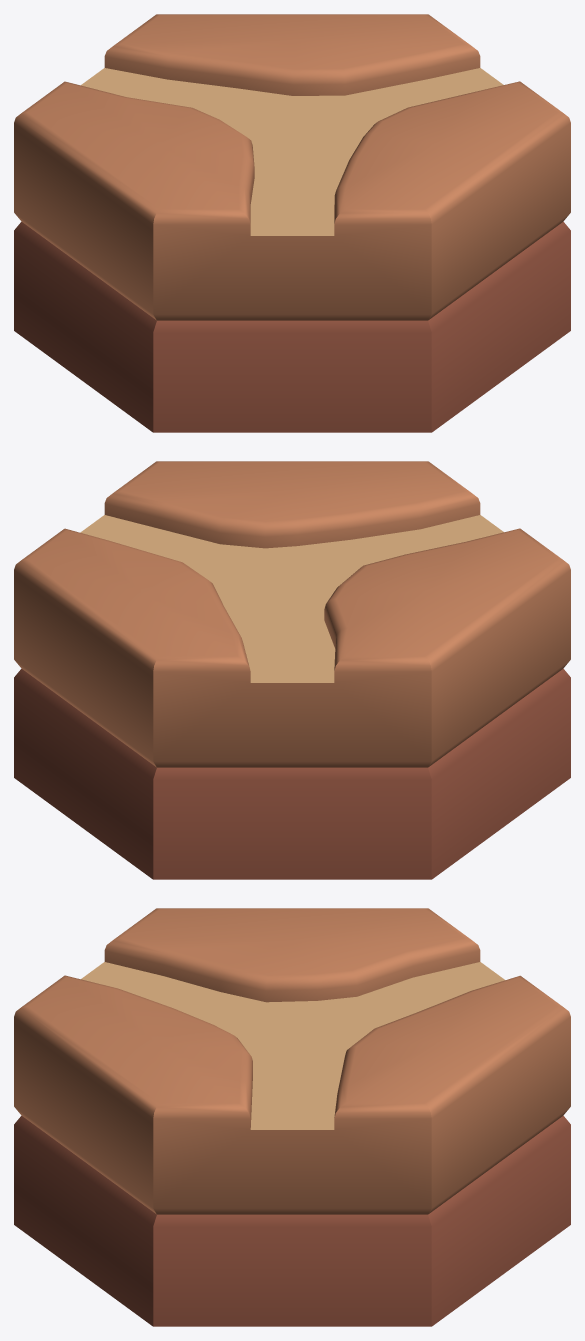
Rendered from hex_rock_roadG_detail.glb.
3 renders of one model, top to bottom at view 1: azimuth 30°, elevation 25°; view 2: azimuth 150°, elevation 25°; view 3: azimuth 270°, elevation 25°, orthographic.
Parts seen in each view (by area): view 1: hex_rock_roadG_detail; view 2: hex_rock_roadG_detail; view 3: hex_rock_roadG_detail.
Part boxes in pixels (x1,y1,x2,y2): hex_rock_roadG_detail: [14, 14, 570, 432]; hex_rock_roadG_detail: [14, 461, 570, 879]; hex_rock_roadG_detail: [14, 908, 570, 1326].
Bounding box in the file's own units: 2 × 1 × 2.31.
